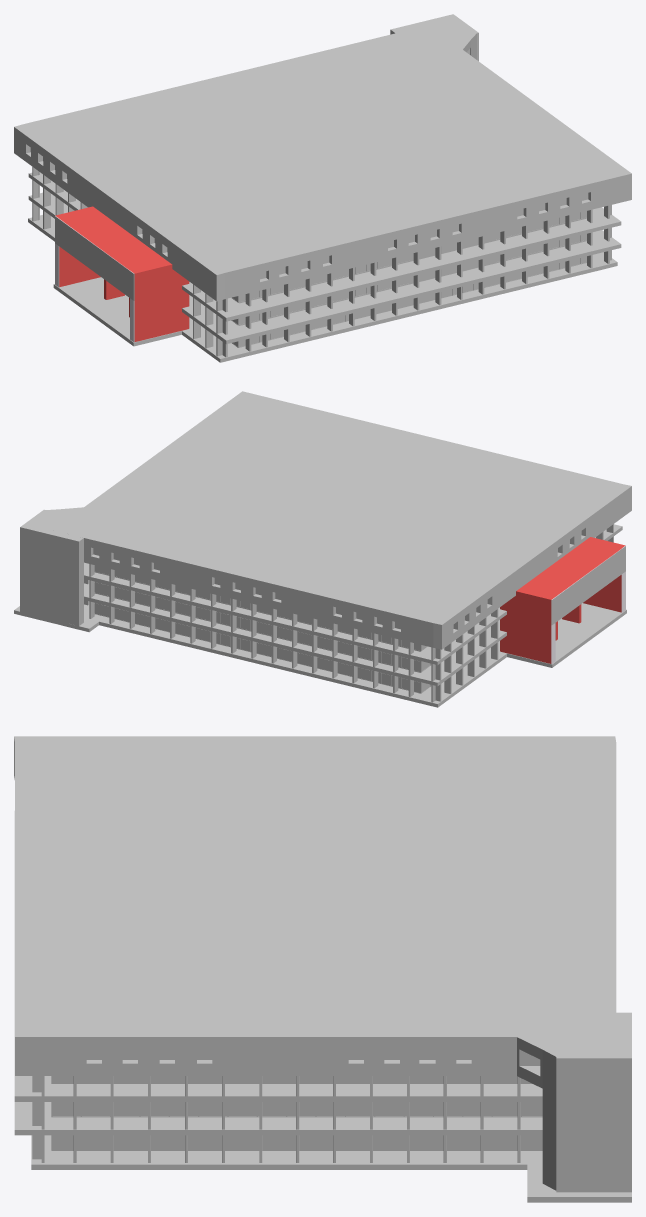
The model's file is BuildingL.fbx.
3 renders of one model, top to bottom at view 1: azimuth 30°, elevation 25°; view 2: azimuth 150°, elevation 25°; view 3: azimuth 270°, elevation 25°, orthographic. The views are drawn at different scales.
Visible parts, largest first — view 1: concrete_roof, concrete, loza, front_columns, floor, columns, windows, mural, side_concrete, emergency_exit, frames, square_windows; view 2: concrete_roof, concrete, loza, windows, front_columns, floor, columns, emergency_exit, frames, mural, square_windows; view 3: concrete_roof, loza, concrete, windows, emergency_exit, floor, columns, frames, square_windows.
Part boxes in pixels (x1,y1,x2,y2): concrete_roof: (14, 25, 631, 274); concrete: (14, 127, 631, 301); loza: (28, 172, 621, 344); front_columns: (55, 206, 189, 342); floor: (28, 215, 617, 362); columns: (32, 167, 611, 357); windows: (232, 211, 586, 347); mural: (55, 216, 134, 300); side_concrete: (345, 233, 495, 321); emergency_exit: (390, 14, 478, 61); frames: (231, 212, 586, 347); square_windows: (30, 49, 588, 279); concrete_roof: (53, 391, 631, 624); concrete: (84, 486, 631, 649); loza: (84, 524, 622, 686); windows: (94, 565, 431, 692); front_columns: (500, 537, 625, 663); floor: (14, 601, 626, 707); columns: (84, 524, 613, 702); emergency_exit: (20, 507, 83, 625); frames: (95, 566, 430, 693); mural: (551, 546, 625, 625); square_windows: (93, 531, 581, 629); concrete_roof: (14, 736, 616, 1036); loza: (14, 811, 542, 1135); concrete: (14, 737, 516, 1075); windows: (51, 1076, 542, 1150); emergency_exit: (517, 1012, 631, 1192); floor: (31, 1076, 631, 1202); columns: (32, 1076, 520, 1162); frames: (51, 1076, 542, 1150); square_windows: (86, 1049, 471, 1059).
Size of the model in its own units: 8187 by 1503 by 6026.
